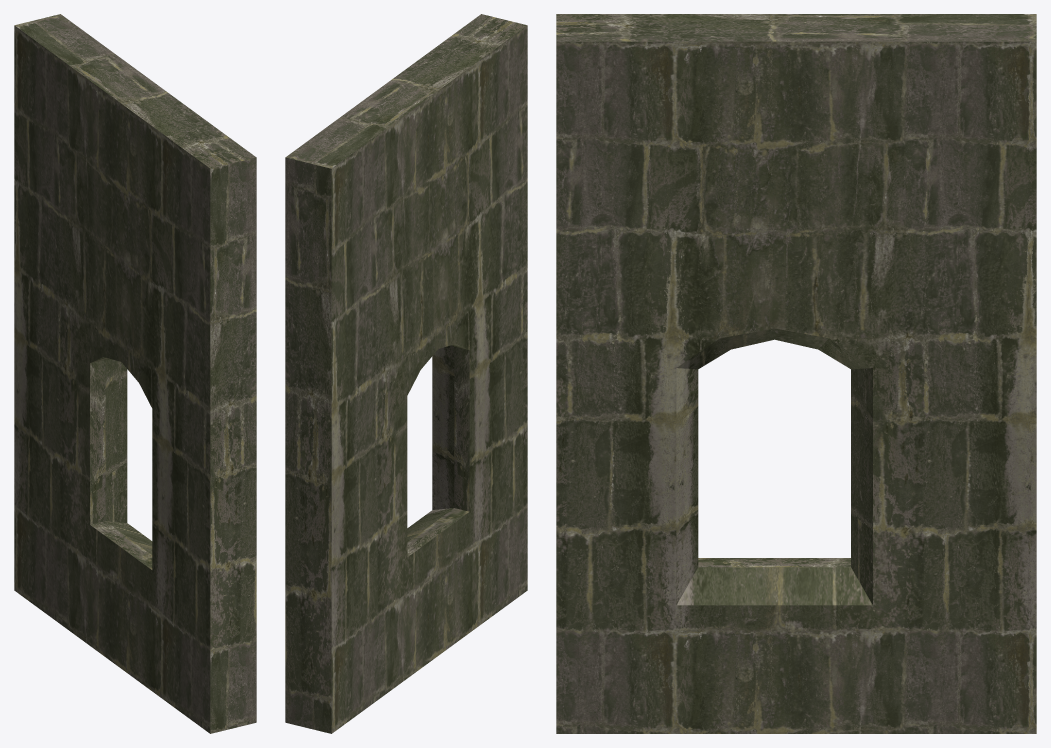
The model's file is VerticalHalfWall_R_Window.fbx.
3 views of the same model, side by side, from view 1: azimuth 30°, elevation 25°; view 2: azimuth 150°, elevation 25°; view 3: azimuth 270°, elevation 25° (orthographic). The views are drawn at different scales.
Visible parts, largest first — view 1: VerticalHalfWall_R_Window; view 2: VerticalHalfWall_R_Window; view 3: VerticalHalfWall_R_Window.
Part boxes in pixels (x1,y1,x2,y2): VerticalHalfWall_R_Window: [14, 14, 256, 733]; VerticalHalfWall_R_Window: [285, 14, 527, 733]; VerticalHalfWall_R_Window: [556, 14, 1036, 733].
Bounding box in the file's own units: 51 × 595 × 374.
